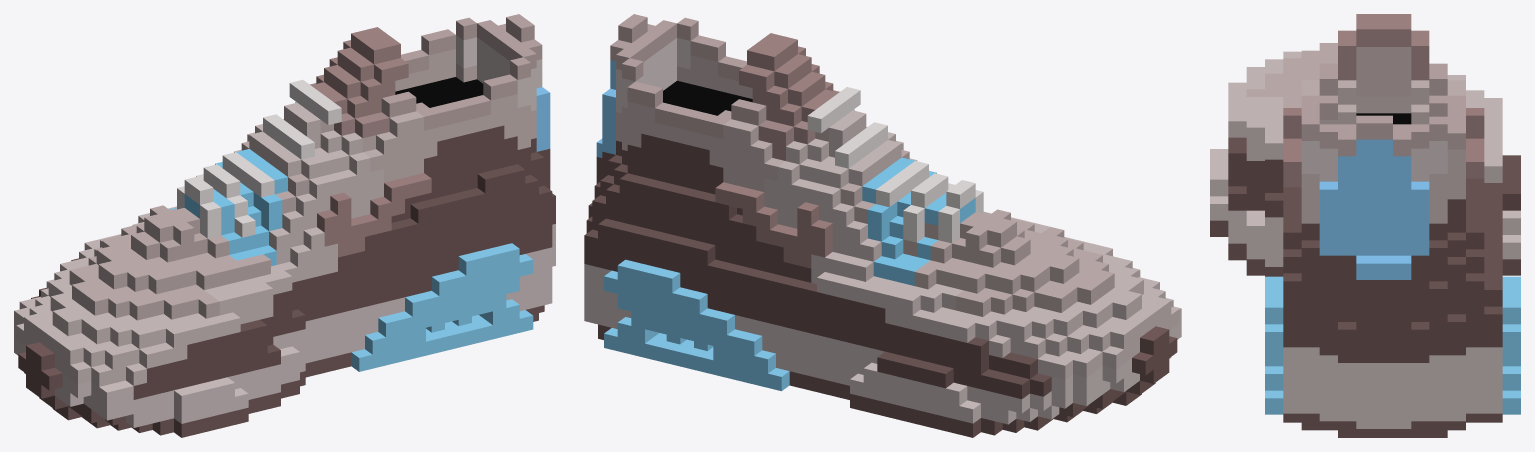
Rendered from Baby Blu.fbx.
3 views of the same model, side by side, from view 1: azimuth 30°, elevation 25°; view 2: azimuth 150°, elevation 25°; view 3: azimuth 270°, elevation 25° (orthographic). The views are drawn at different scales.
Parts seen in each view (by area): view 1: Untitled; view 2: Untitled; view 3: Untitled.
Part boxes in pixels (x1,y1,x2,y2): Untitled: (14, 14, 555, 437); Untitled: (584, 14, 1181, 437); Untitled: (1210, 14, 1520, 437).
Size of the model in its own units: 390 by 200 by 170.
